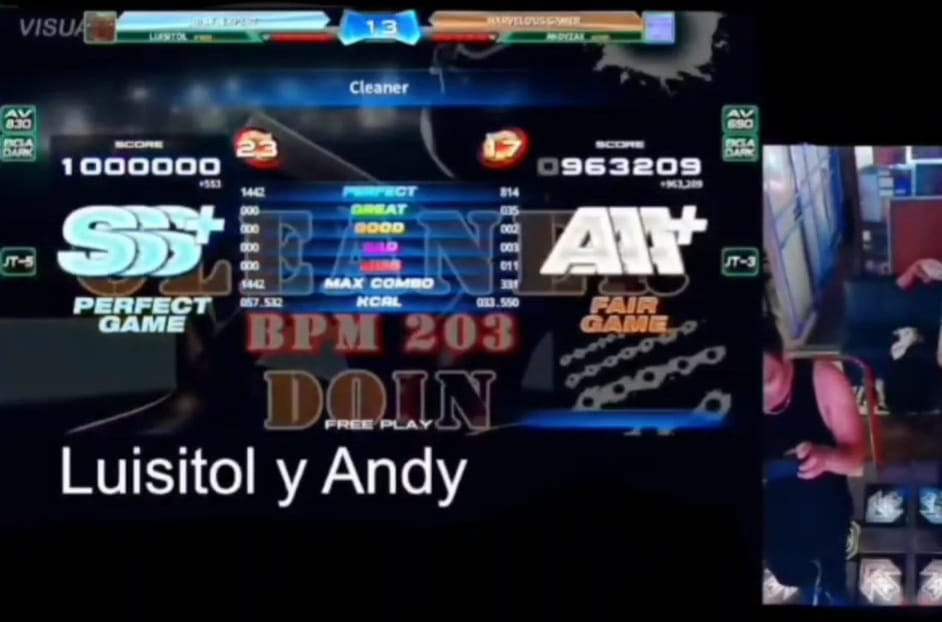difficulty: (233, 129, 284, 169)
fullscore: (0, 2, 381, 423)
rank: (49, 192, 228, 286)
song_name: (182, 65, 587, 111)
